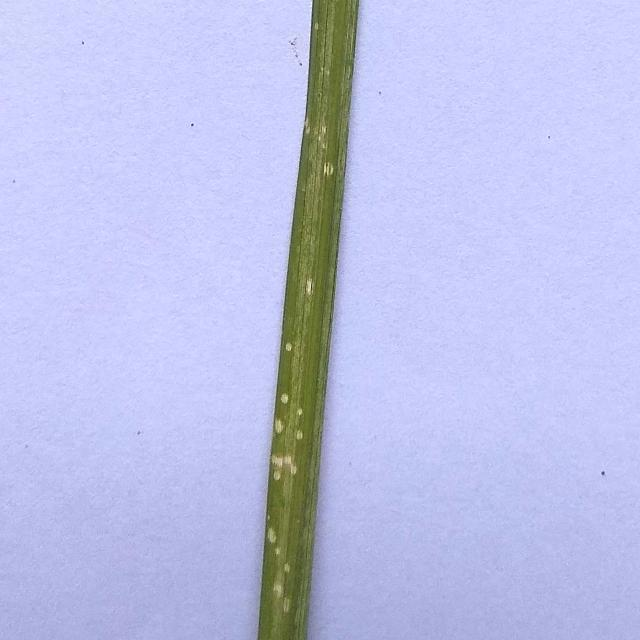Blast: (272, 565, 303, 615), (272, 451, 296, 487), (302, 278, 319, 298), (276, 418, 290, 438), (276, 392, 296, 405), (267, 528, 279, 546), (295, 427, 306, 445), (284, 341, 298, 355)
